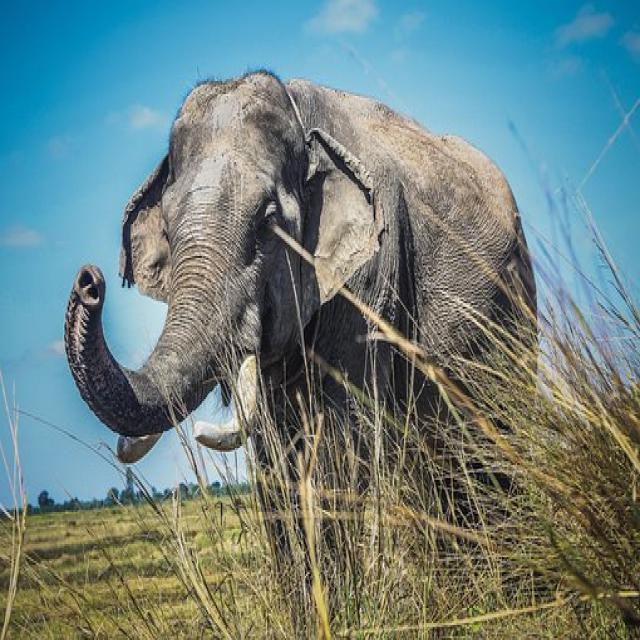Elephant: (36, 40, 562, 540)
